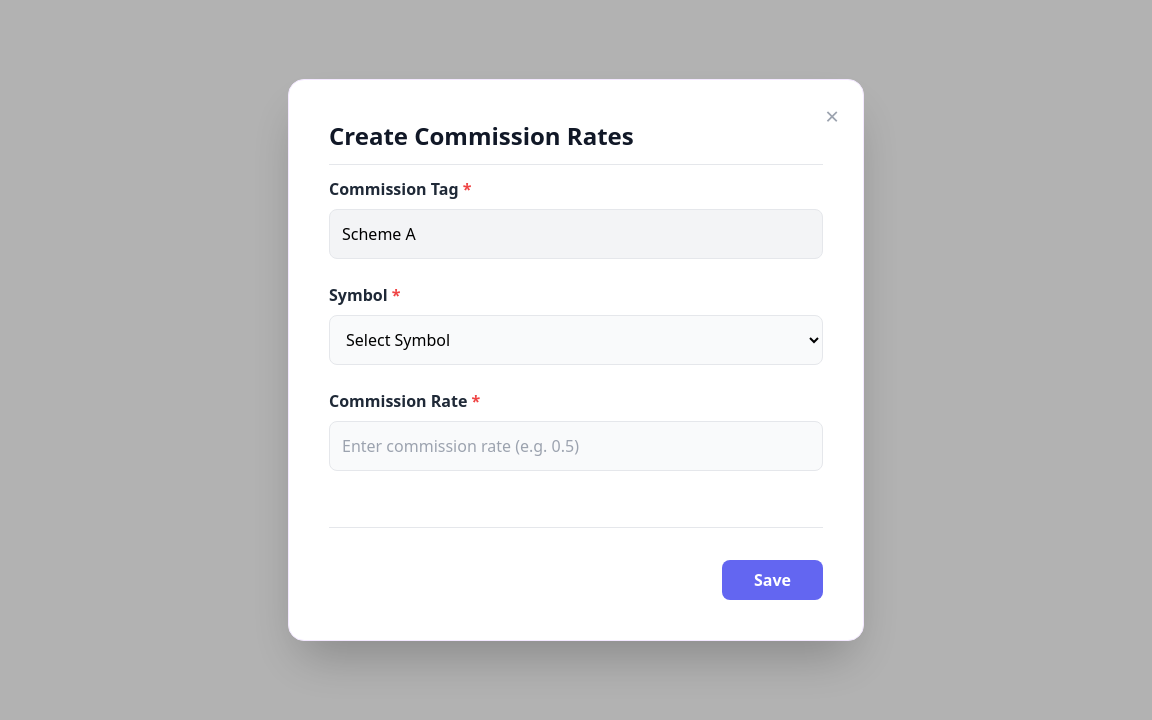
CommissionRateCreateModal › shows validation error when commission rate is invalid
Select "USD" in the dropdown labelled "Symbol *" at {"x": 576, "y": 340}, box [329, 315, 823, 365]
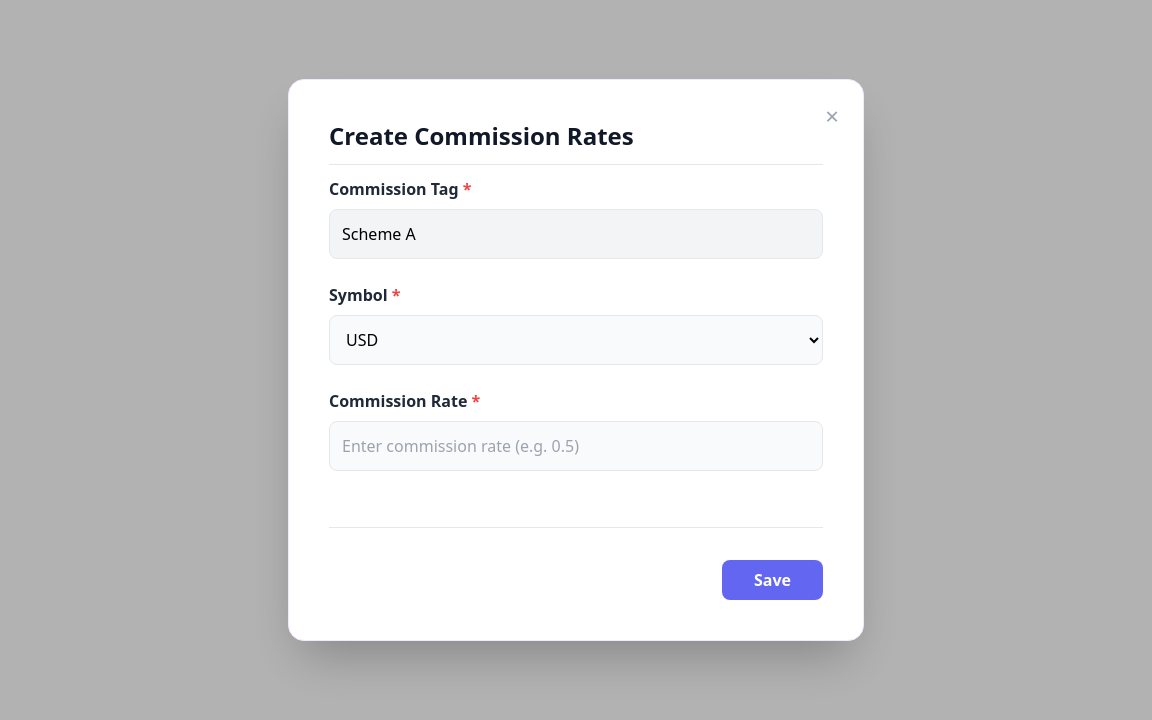
Type "-0.5" into the number field labelled "Commission Rate *" at {"x": 576, "y": 446}, box [329, 421, 823, 471]
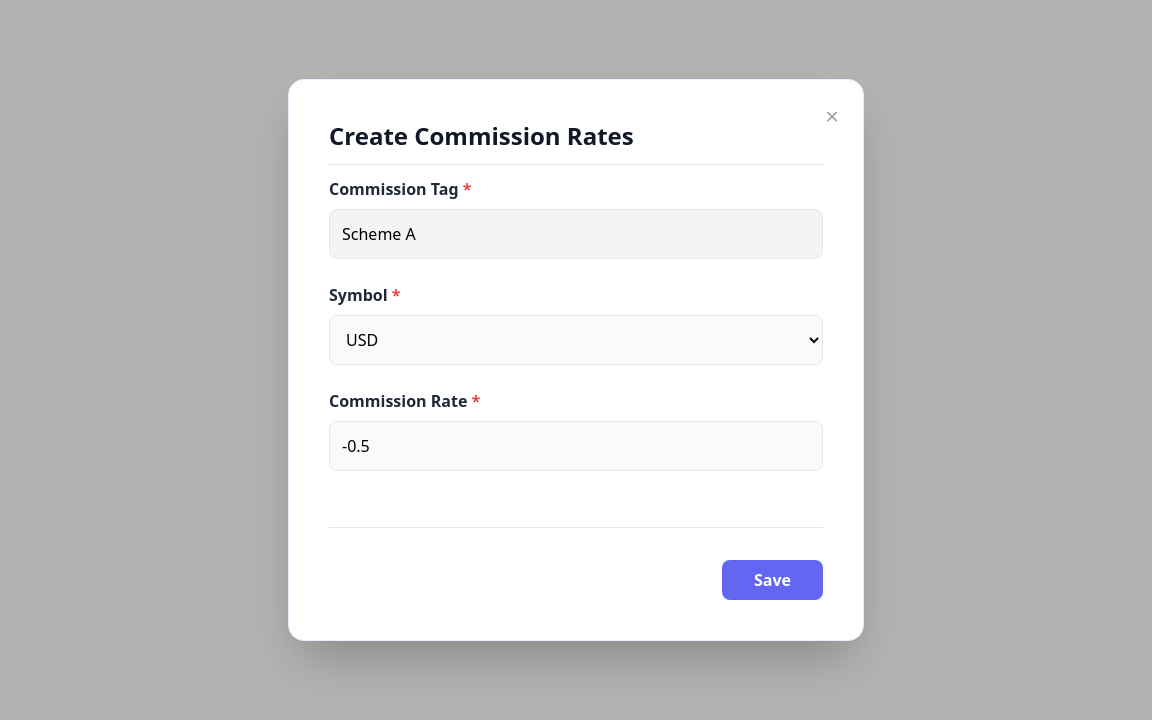
Click the button "Save" at {"x": 772, "y": 580}, box [722, 560, 823, 600]
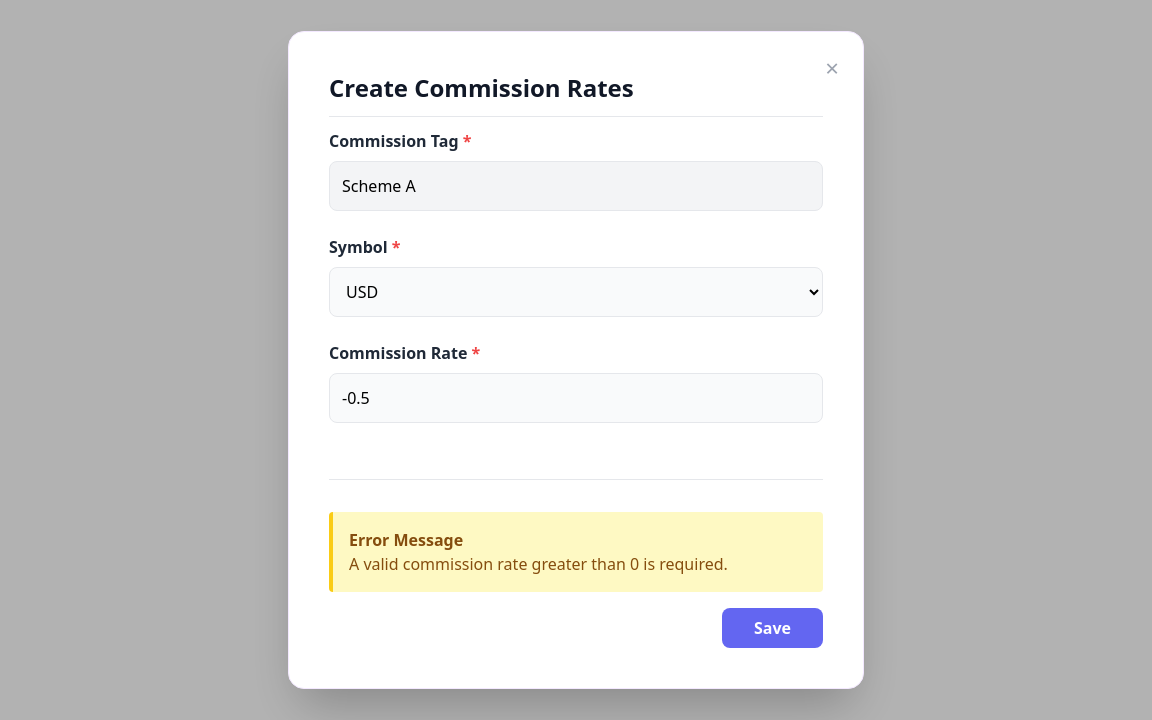
Now the text "A valid commission rate greater than 0 is required." is shown, box [349, 553, 728, 575]
